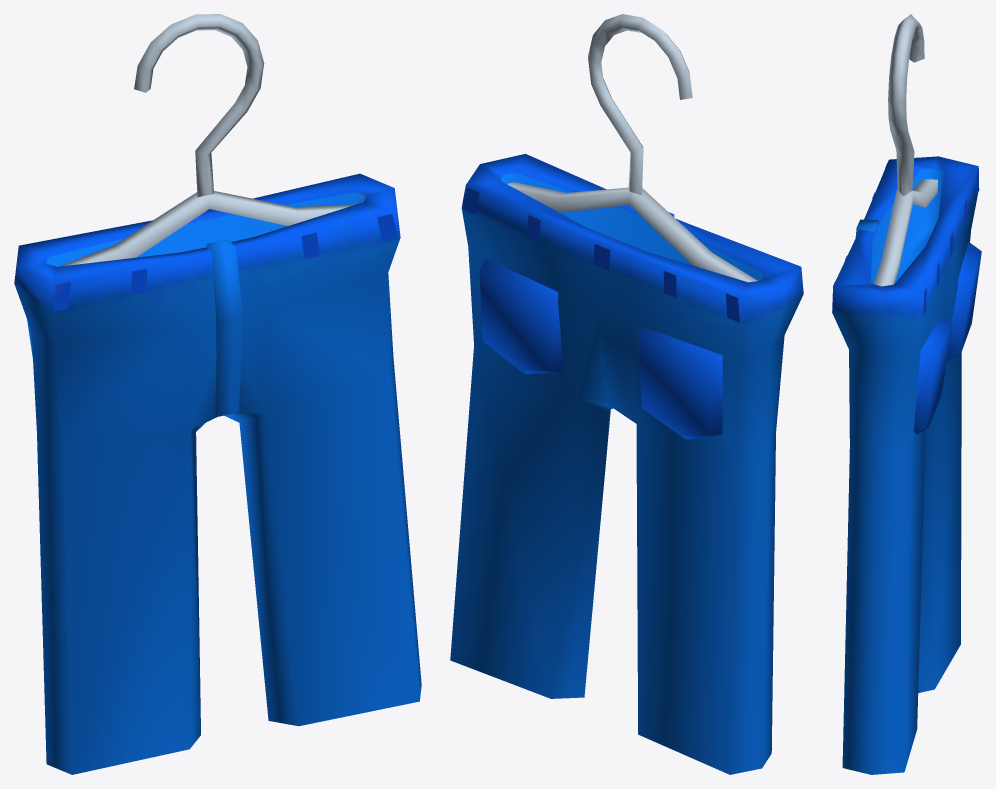
The model's file is PantsCleanHang.fbx.
3 views of the same model, side by side, from view 1: azimuth 30°, elevation 25°; view 2: azimuth 150°, elevation 25°; view 3: azimuth 270°, elevation 25° (orthographic). The views are drawn at different scales.
Parts seen in each view (by area): view 1: PantsCleanHang; view 2: PantsCleanHang; view 3: PantsCleanHang.
Boxes of the visible parts, x1,y1,x2,y2 form: PantsCleanHang: (14,14,421,774); PantsCleanHang: (450,14,803,774); PantsCleanHang: (832,14,981,774).
Bounding box in the file's own units: 89.04 × 167 × 33.4.
